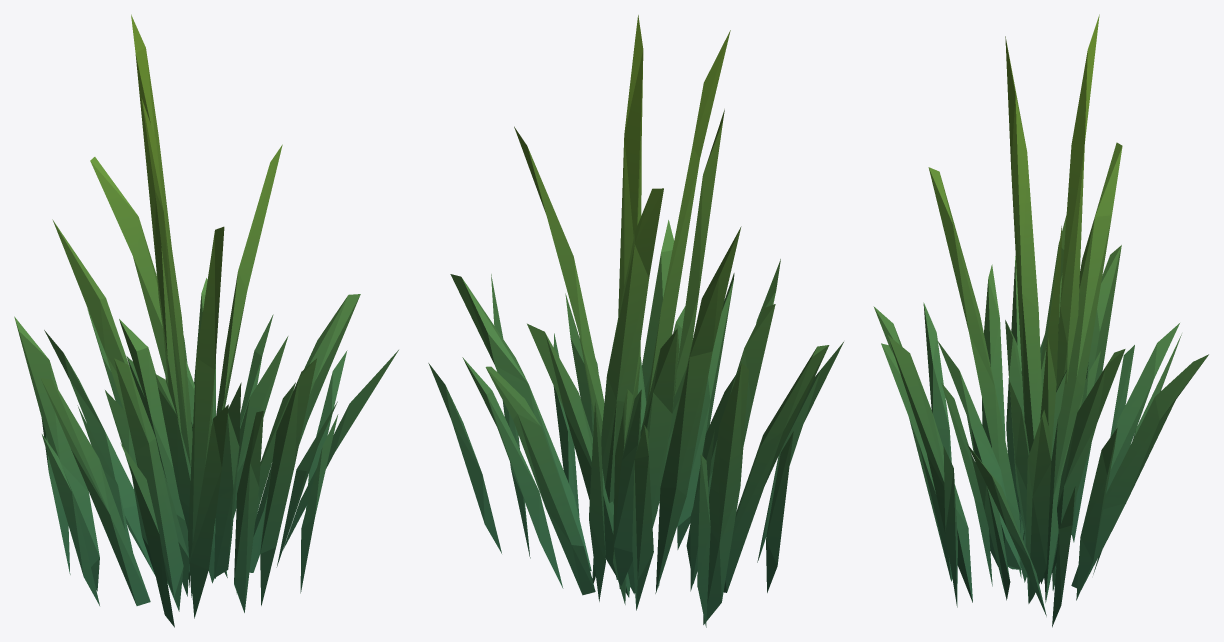
Rendered from ZLP_Grass_A_4.FBX.
The picture shows the model from 3 angles, left to right: view 1: azimuth 30°, elevation 25°; view 2: azimuth 150°, elevation 25°; view 3: azimuth 270°, elevation 25°; orthographic projection. The views are drawn at different scales.
Visible parts, largest first — view 1: ZLP_Grass_A_4; view 2: ZLP_Grass_A_4; view 3: ZLP_Grass_A_4.
Boxes of the visible parts, <box> form: ZLP_Grass_A_4: <box>14,14,398,627</box>; ZLP_Grass_A_4: <box>428,15,843,627</box>; ZLP_Grass_A_4: <box>873,14,1208,627</box>.
Size of the model in its own units: 102 by 164 by 89.13.
